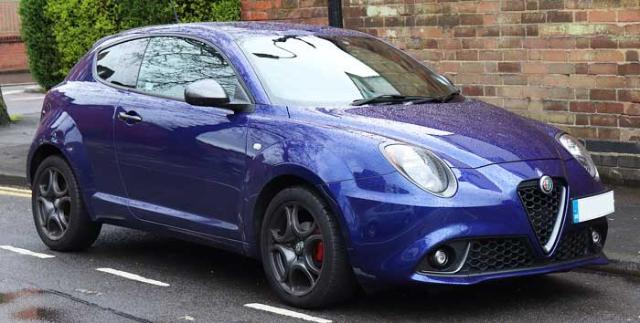alpha-romeo: (27, 21, 616, 309)
